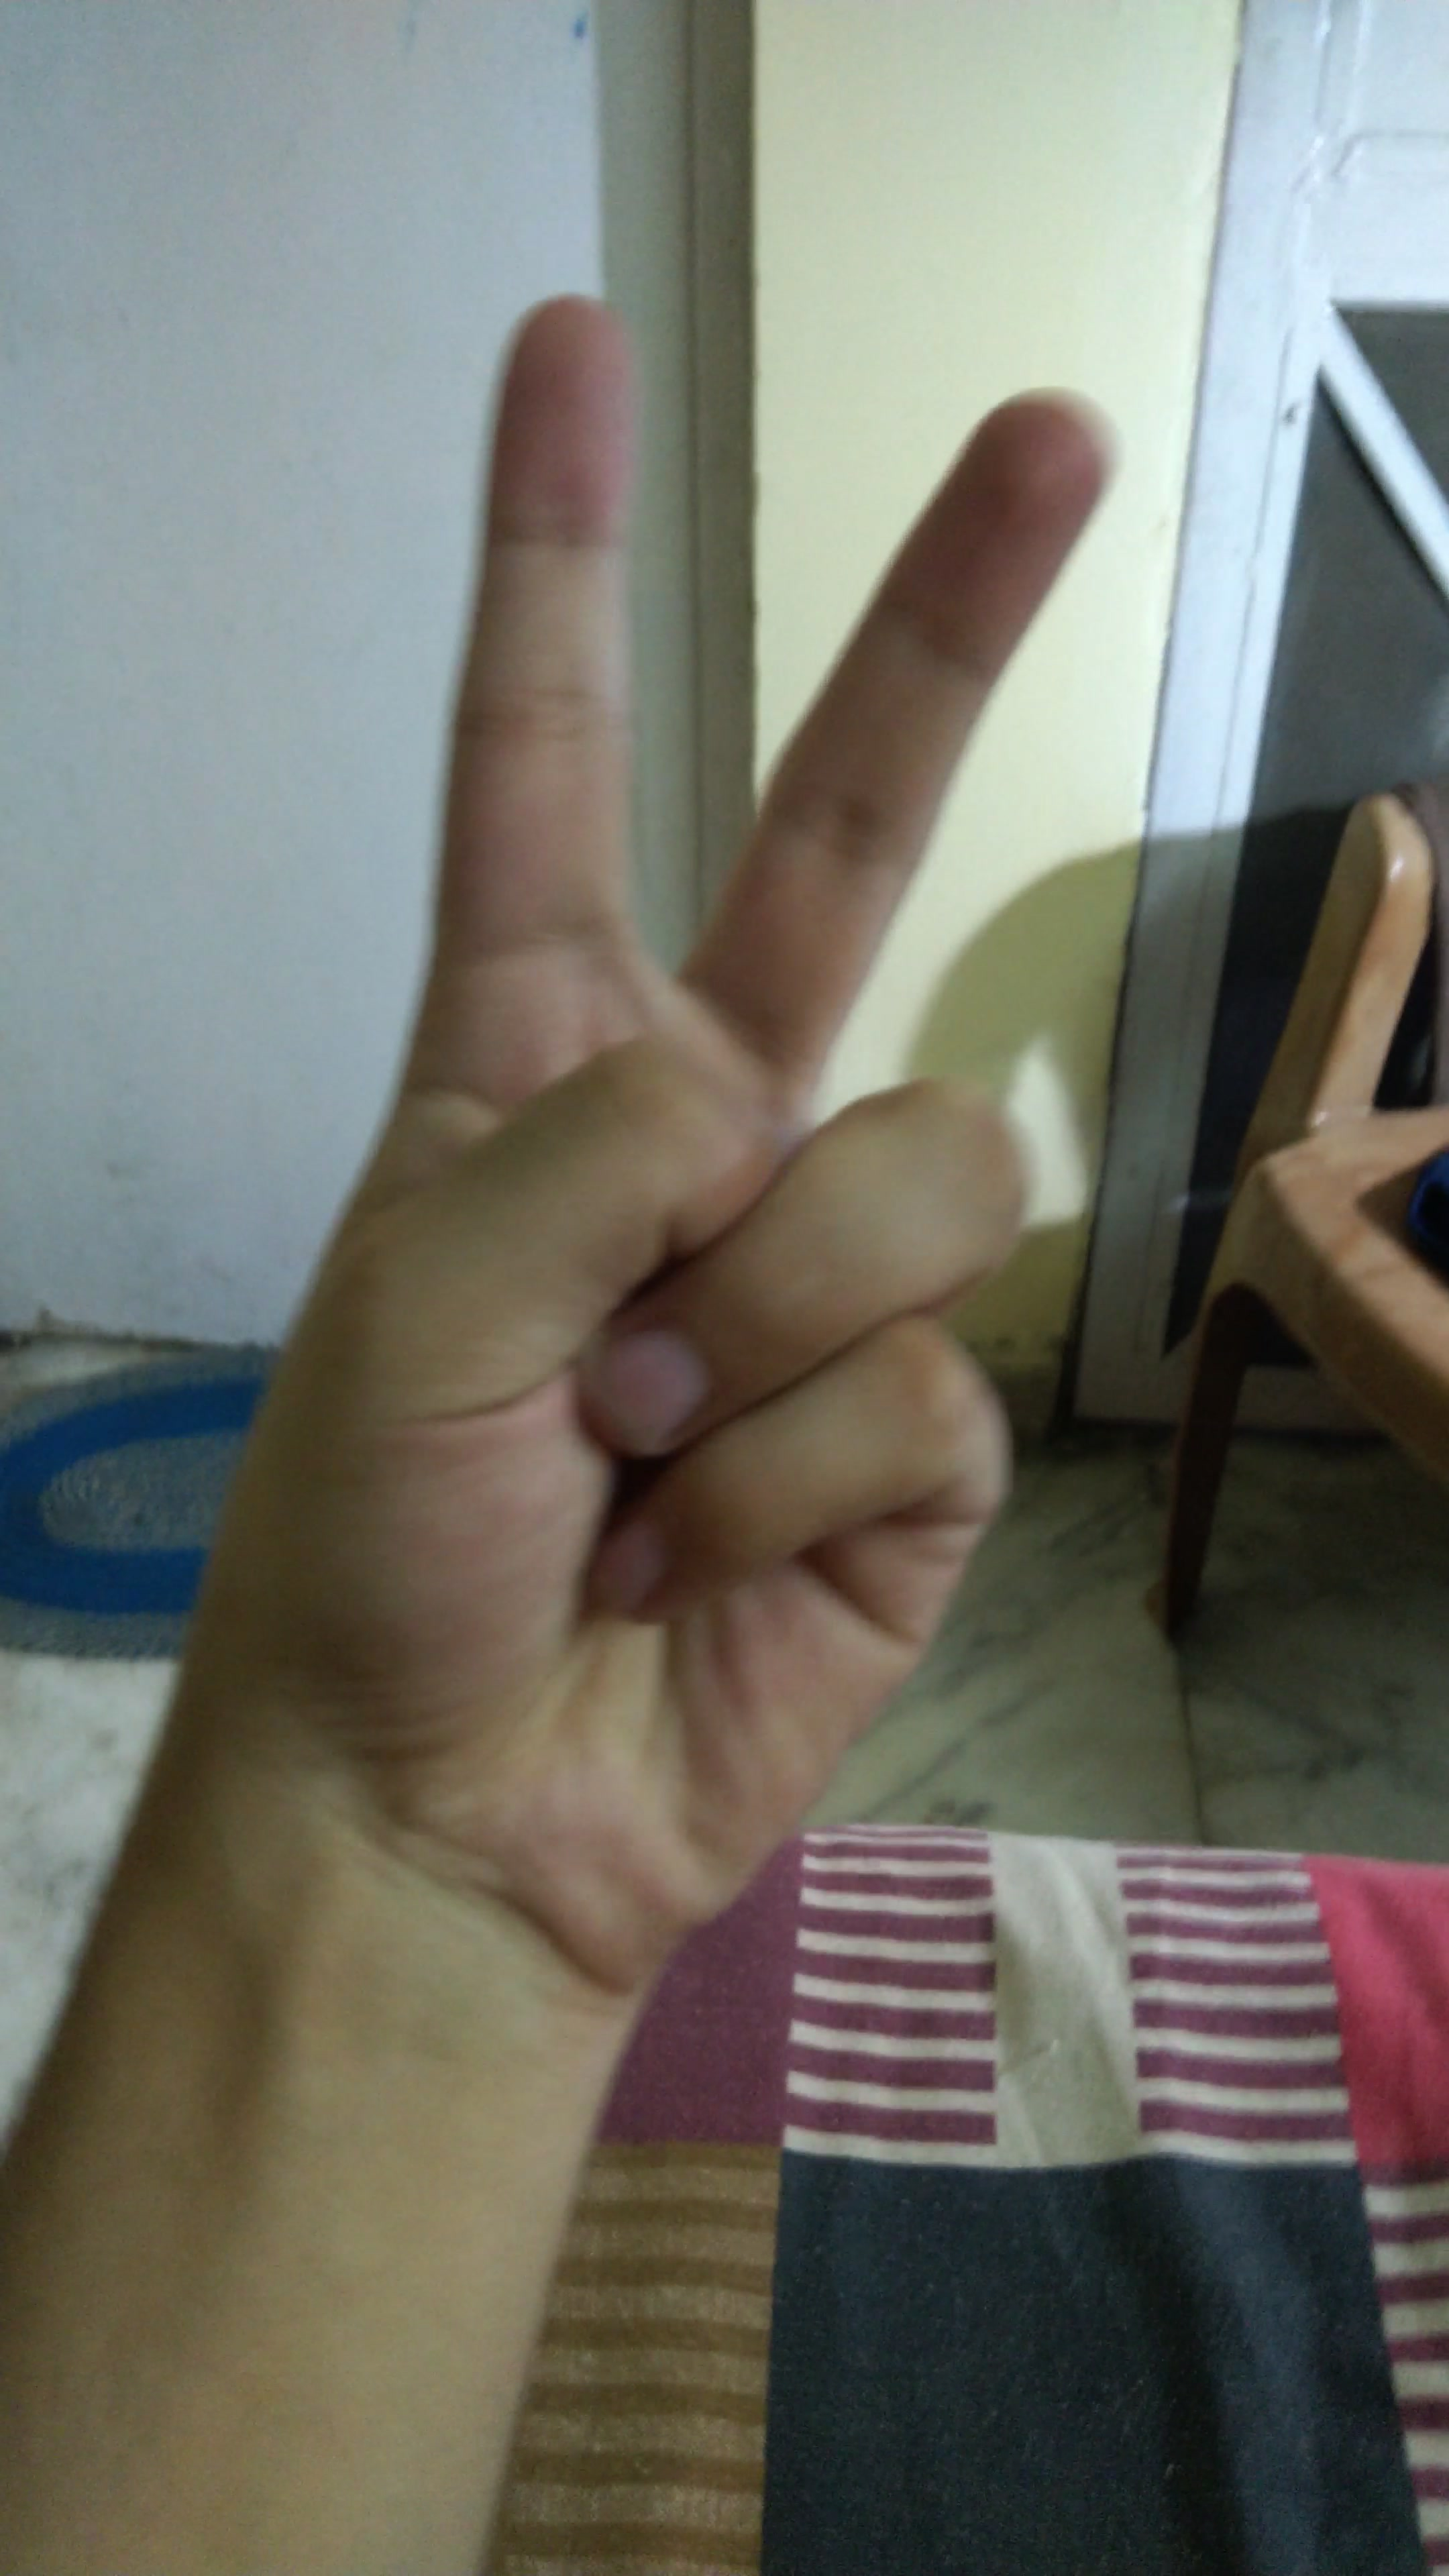hand: (150, 272, 1079, 1978)
